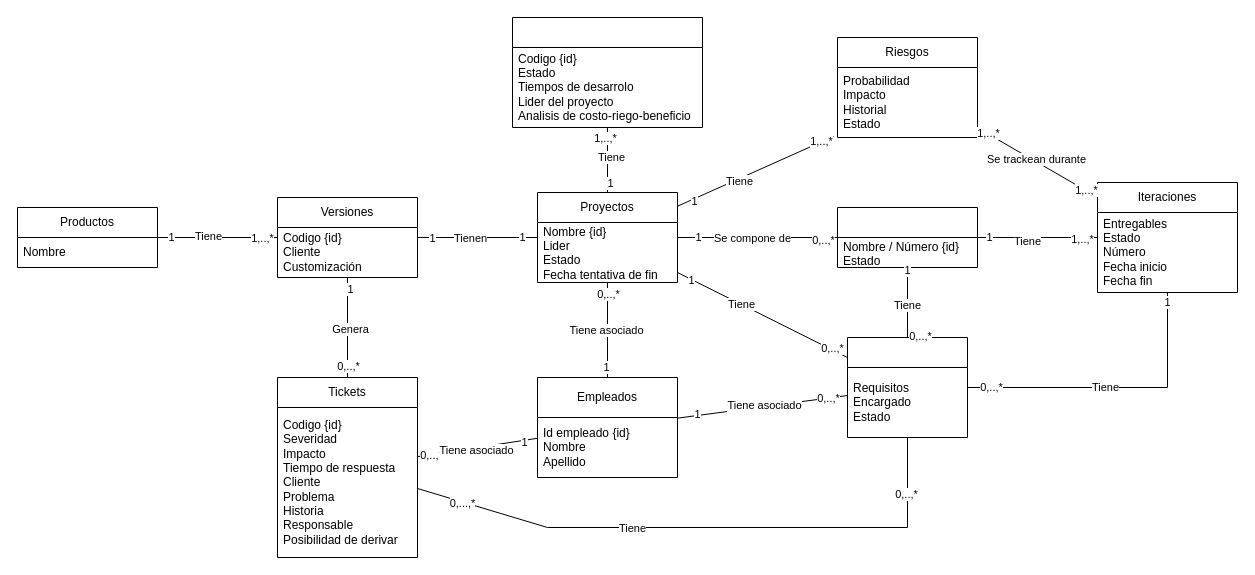
This 1255x575 diagram has some shape labels left out. Here are the shapes that lost their labels. From the top down, the box of each, then its label:
(512, 16, 702, 128): Reportes
(836, 206, 978, 268): Fases
(846, 336, 968, 438): Tareas
